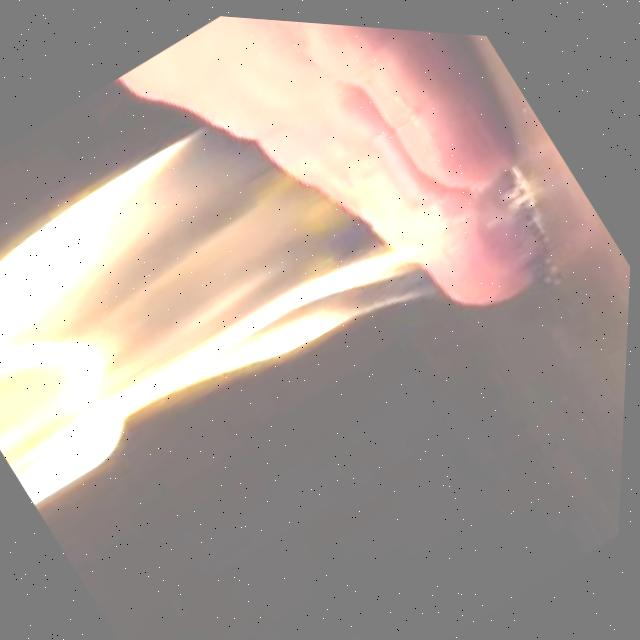Fire: (0, 15, 451, 535)
